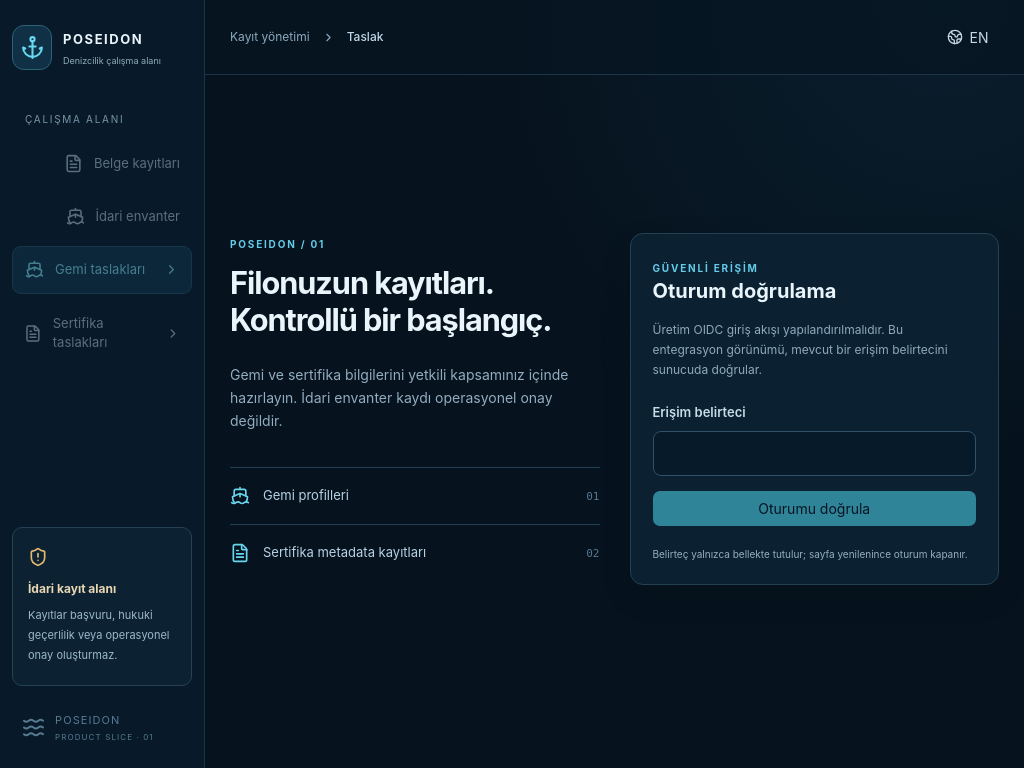
Test case: inventory browsing › ignores a late old search even when transport ignores abort
Type "token" into the password field labelled "Erişim belirteci" at (814, 453), box 652,431 -> 976,476
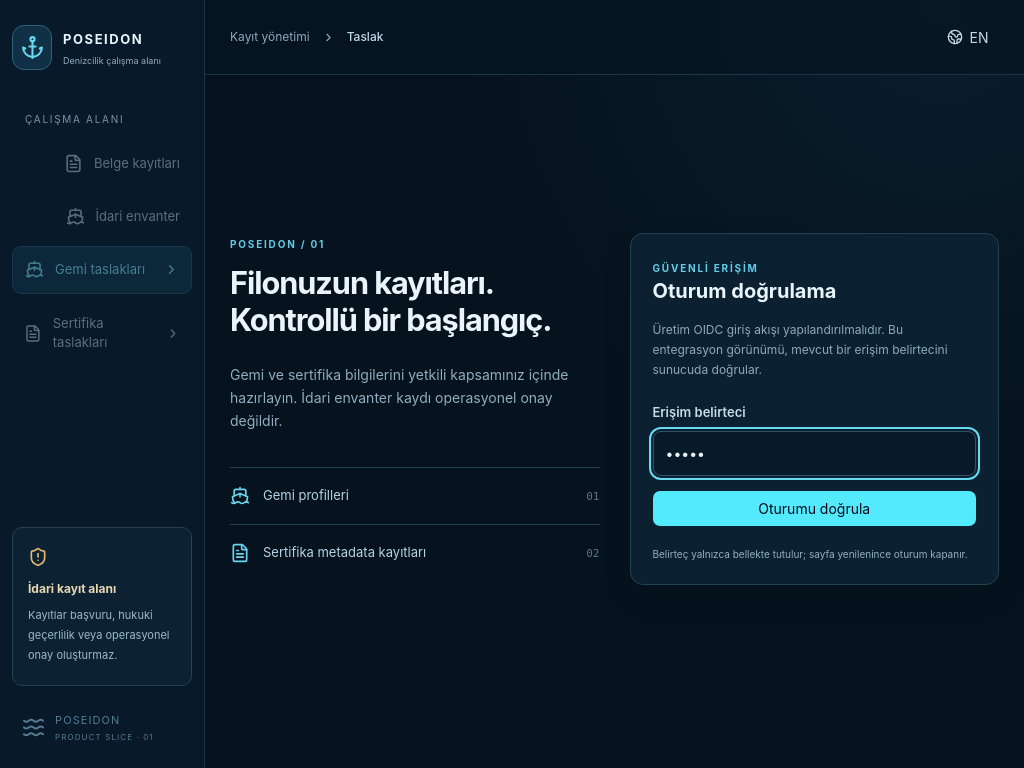
Click the button "Oturumu doğrula" at (814, 508), box 652,491 -> 976,526
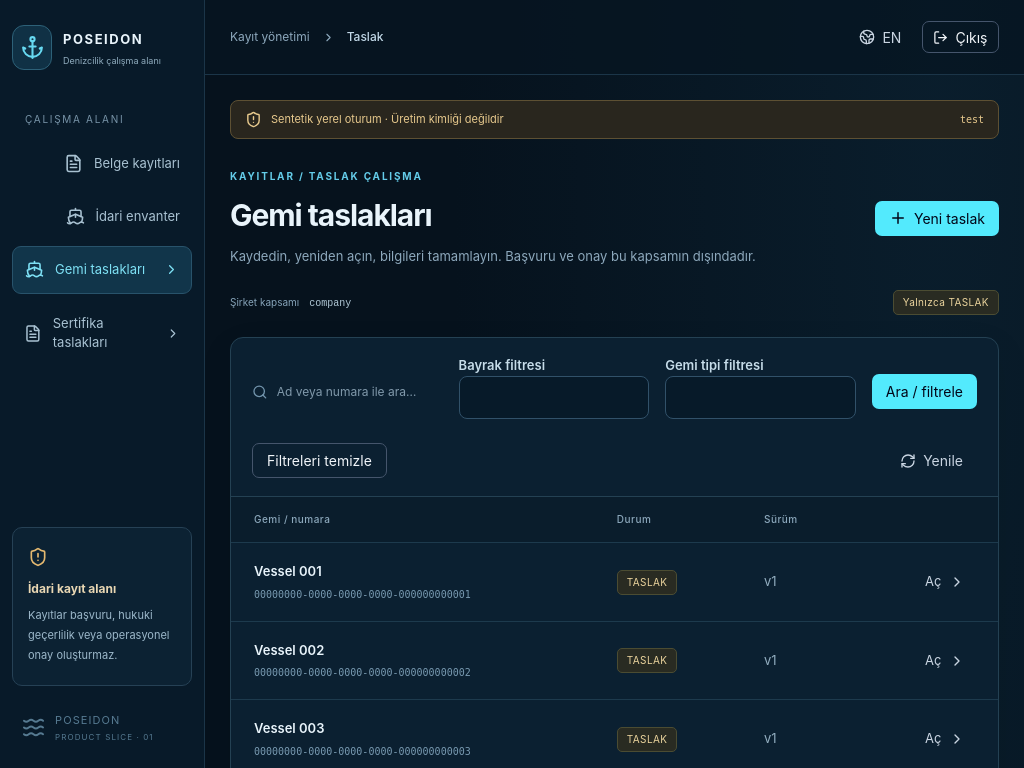
Expected: the text "Vessel 001" is shown, 254,563 -> 322,579
Type "old" into the field named "Taslaklarda ara" at (360, 392), box 277,376 -> 443,408
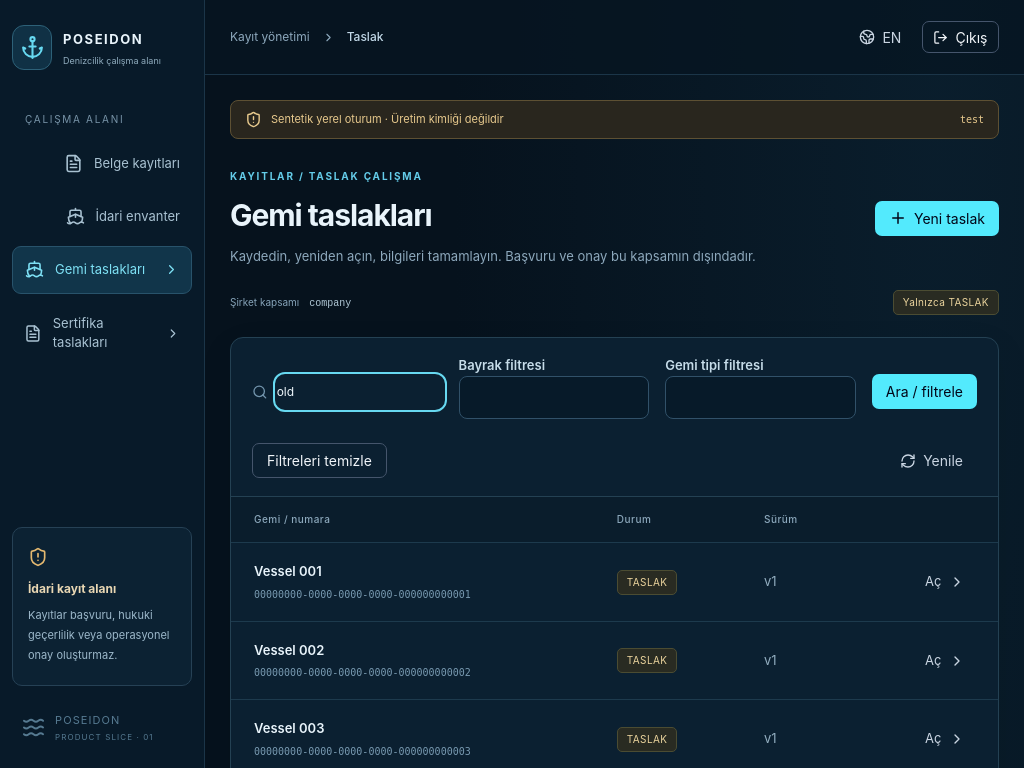
Click the button "Ara / filtrele" at (924, 392), box 872,374 -> 977,409
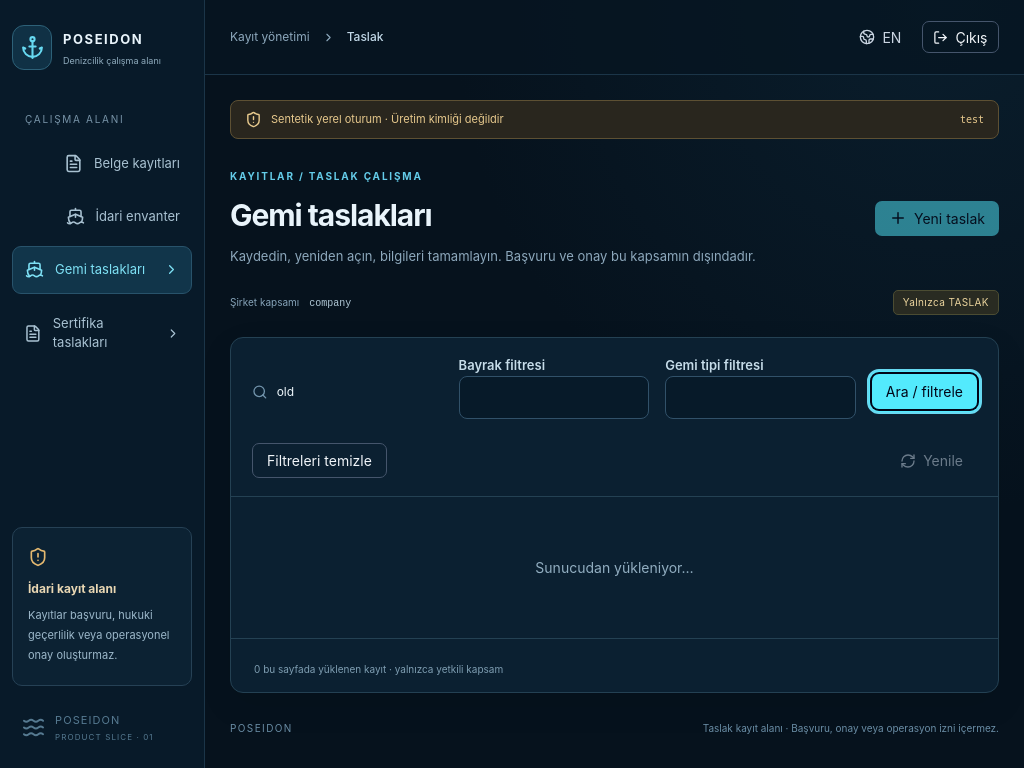
Replace the text in the field named "Taslaklarda ara" with "Vessel 550" at (360, 392), box 277,376 -> 443,408
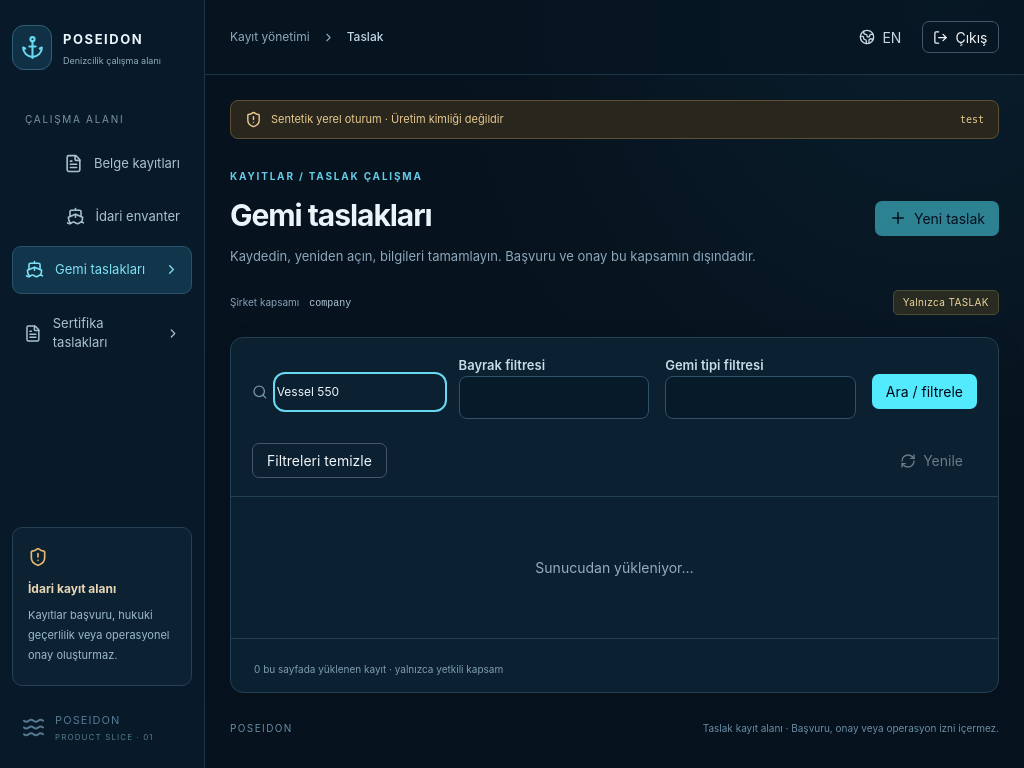
Click the button "Ara / filtrele" at (924, 392), box 872,374 -> 977,409
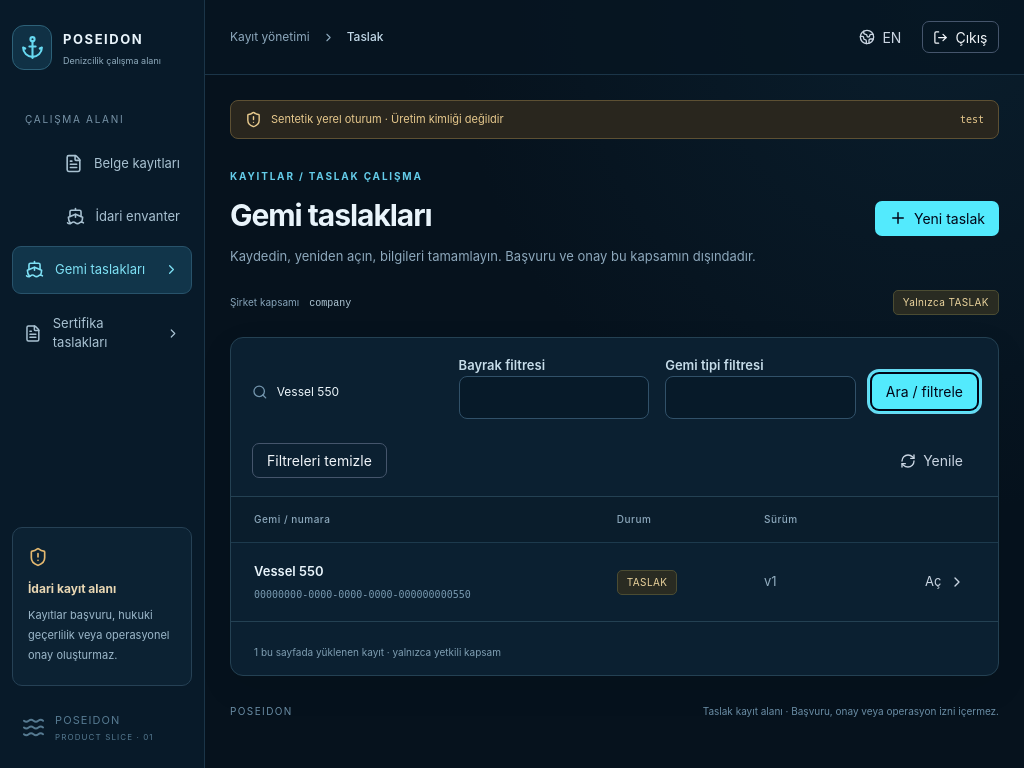
Expected: the text "Vessel 550" is shown, 254,563 -> 324,579
